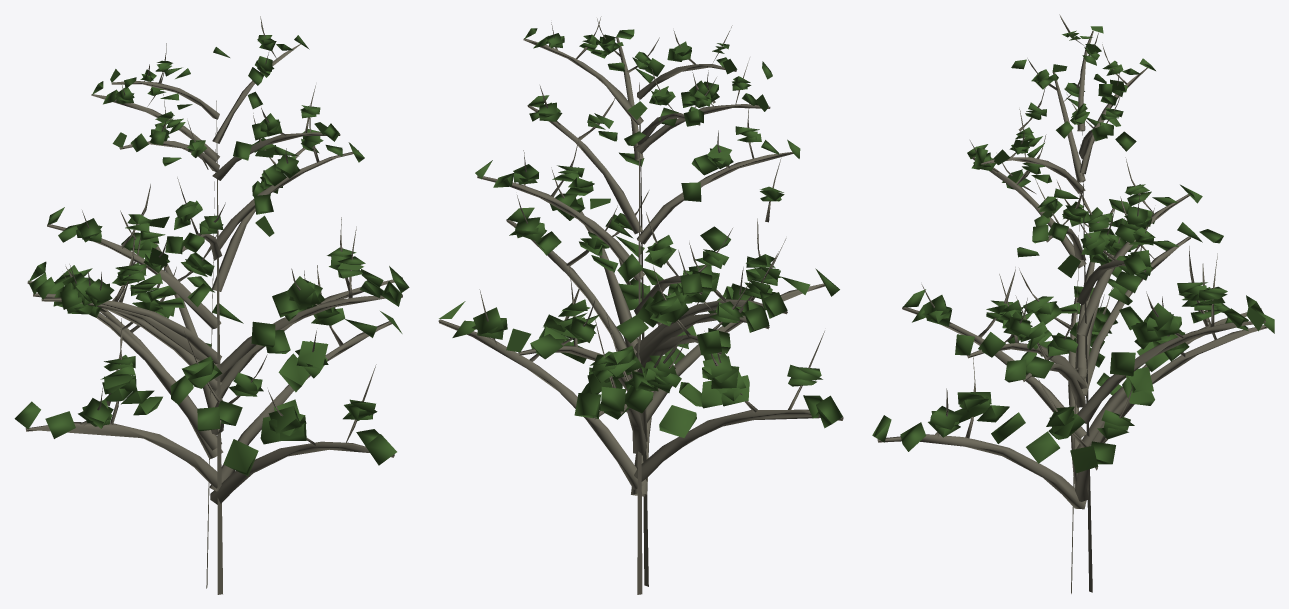
Rendered from Tree_PinOak_007.fbx.
3 renders of one model, left to right at view 1: azimuth 30°, elevation 25°; view 2: azimuth 150°, elevation 25°; view 3: azimuth 270°, elevation 25°, orthographic. The views are drawn at different scales.
Visible parts, largest first — view 1: Tree_PinOak.007; view 2: Tree_PinOak.007; view 3: Tree_PinOak.007.
Boxes of the visible parts, x1,y1,x2,y2 form: Tree_PinOak.007: (14, 16, 409, 594); Tree_PinOak.007: (438, 16, 843, 594); Tree_PinOak.007: (872, 14, 1274, 593).
Bounding box in the file's own units: 1808 × 2538 × 1700.
